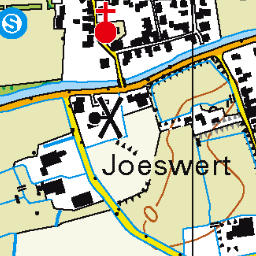church: (89, 1, 121, 46)
